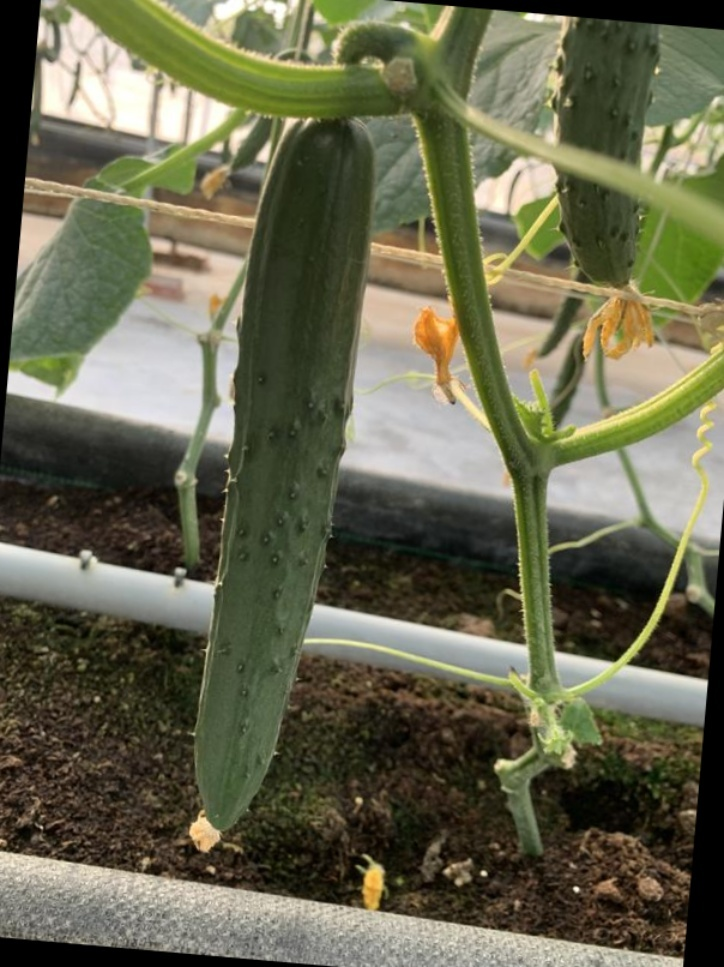mature: (176, 117, 392, 856), (535, 17, 669, 339)
